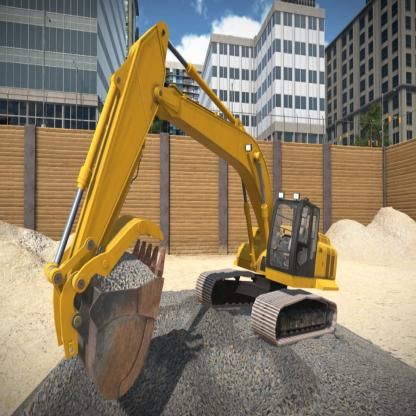excavator: (33, 16, 365, 390)
